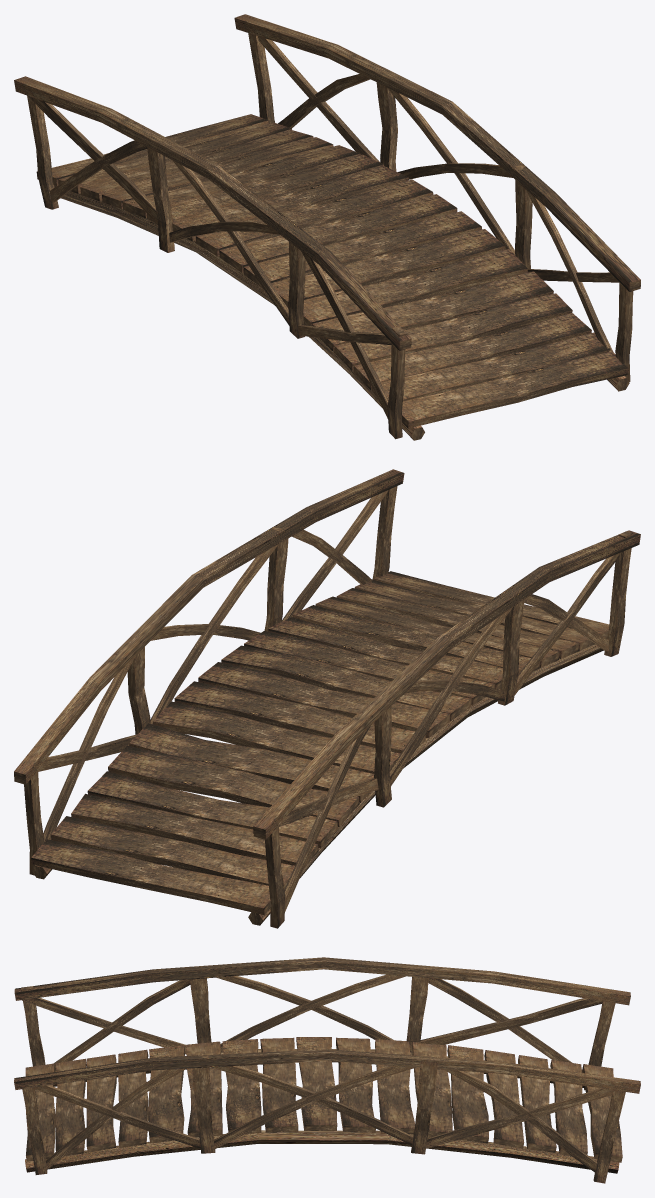
File: big_bridge.fbx
The picture shows the model from 3 angles, top to bottom: view 1: azimuth 30°, elevation 25°; view 2: azimuth 150°, elevation 25°; view 3: azimuth 270°, elevation 25°; orthographic projection. The views are drawn at different scales.
Visible parts, largest first — view 1: bridge; view 2: bridge; view 3: bridge.
Part boxes in pixels (x1,y1,x2,y2): bridge: [14, 14, 640, 440]; bridge: [14, 469, 640, 928]; bridge: [14, 957, 640, 1183].
Bounding box in the file's own units: 414 × 254 × 1068.
Materials: 1 (1 with a texture image).
